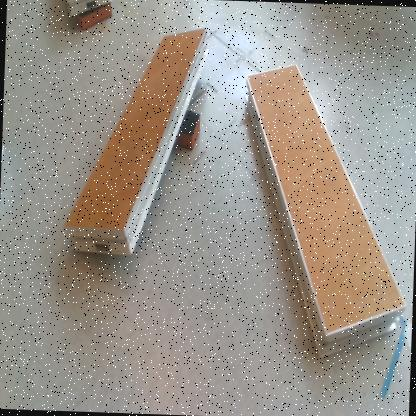Stairs: (246, 65, 410, 361), (63, 30, 210, 256), (68, 1, 114, 19)
